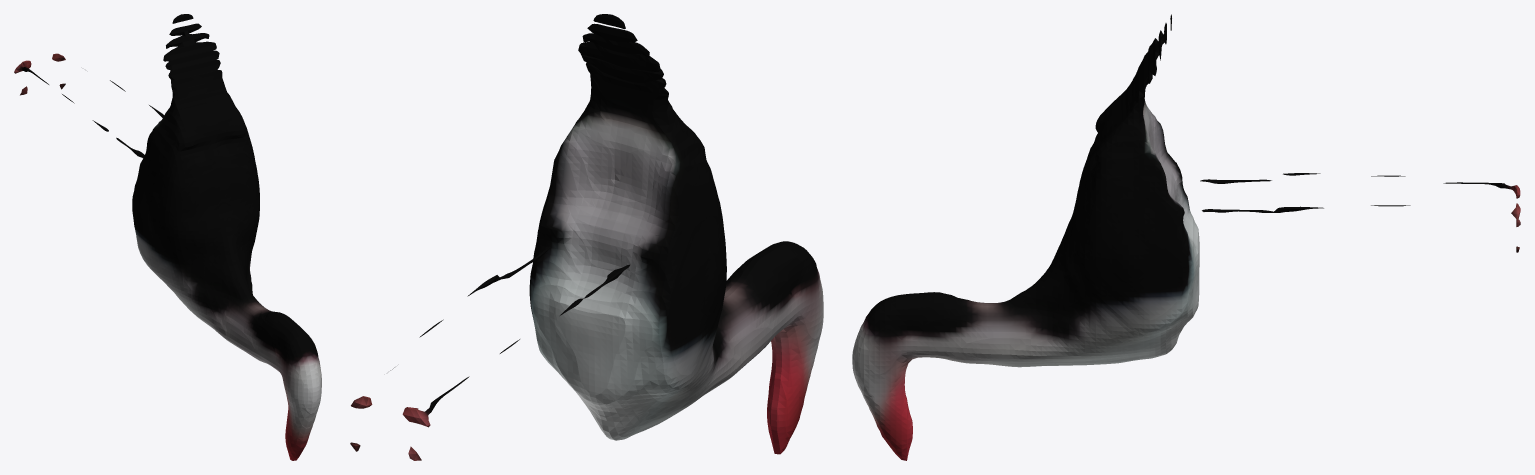
File: a flamingo that looks like a penguin.fbx
3 views of the same model, side by side, from view 1: azimuth 30°, elevation 25°; view 2: azimuth 150°, elevation 25°; view 3: azimuth 270°, elevation 25° (orthographic). The views are drawn at different scales.
Visible parts, largest first — view 1: a flamingo that looks like a penguin_1; view 2: a flamingo that looks like a penguin_1; view 3: a flamingo that looks like a penguin_1.
Boxes of the visible parts, left/top/right/bottom form: a flamingo that looks like a penguin_1: left=14, top=14, right=321, bottom=460; a flamingo that looks like a penguin_1: left=350, top=14, right=823, bottom=460; a flamingo that looks like a penguin_1: left=852, top=14, right=1520, bottom=460.
Size of the model in its own units: 40.57 by 141 by 192.
